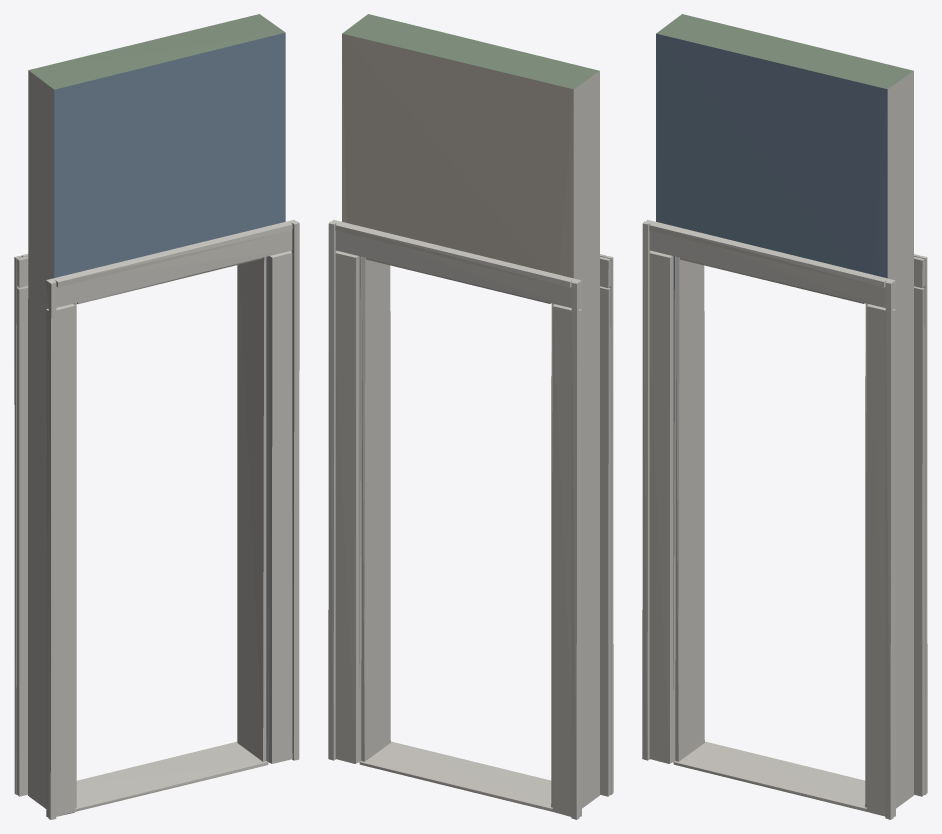
Rendered from SM_Kit_Wall_Door_LOD2.glb.
3 renders of one model, left to right at view 1: azimuth 30°, elevation 25°; view 2: azimuth 150°, elevation 25°; view 3: azimuth 330°, elevation 25°, orthographic.
Parts seen in each view (by area): view 1: SM_Kit_Wall_Door_LOD2; view 2: SM_Kit_Wall_Door_LOD2; view 3: SM_Kit_Wall_Door_LOD2.
Boxes of the visible parts, x1,y1,x2,y2 form: SM_Kit_Wall_Door_LOD2: (14, 14, 299, 819); SM_Kit_Wall_Door_LOD2: (328, 14, 613, 819); SM_Kit_Wall_Door_LOD2: (642, 14, 927, 819).
Bounding box in the file's own units: 1.08 × 3 × 0.2746.
